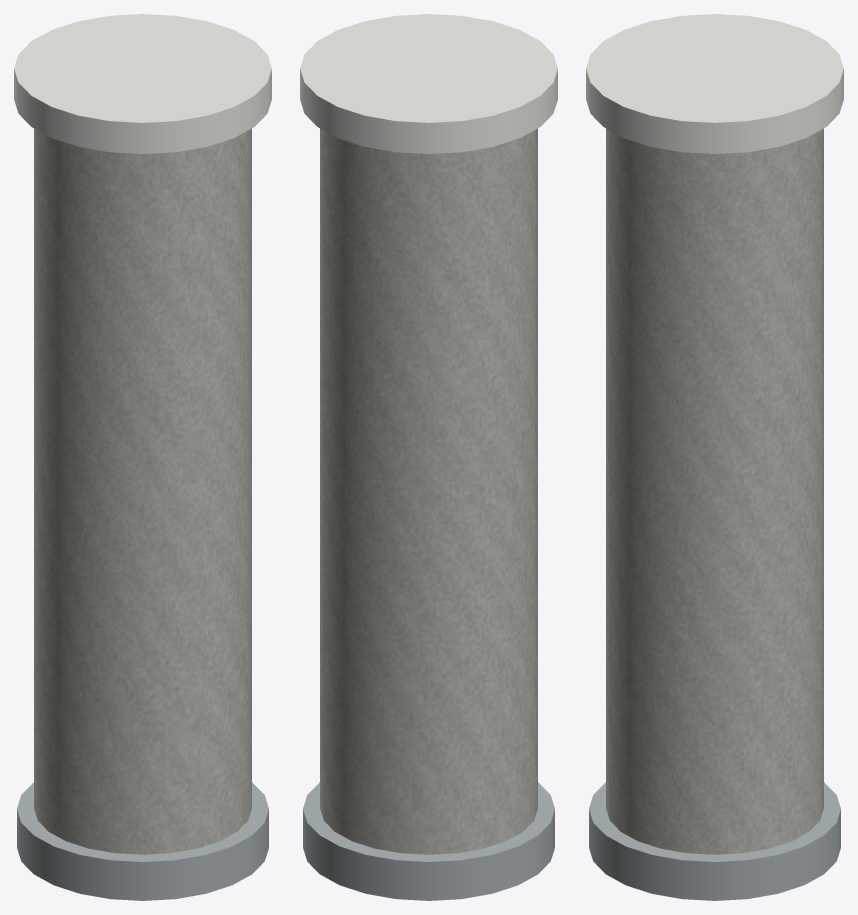
File: liminal-spaces-kit-mall-column-79c4ad15__25268.glb
3 renders of one model, left to right at view 1: azimuth 30°, elevation 25°; view 2: azimuth 150°, elevation 25°; view 3: azimuth 270°, elevation 25°, orthographic.
Visible parts, largest first — view 1: mall-column; view 2: mall-column; view 3: mall-column.
Part boxes in pixels (x1=…): mall-column: x1=14, y1=14, x2=271, y2=900; mall-column: x1=300, y1=14, x2=557, y2=900; mall-column: x1=586, y1=14, x2=843, y2=900.
Bounding box in the file's own units: 0.9 × 3 × 0.9.
3 materials, 1 textured.
